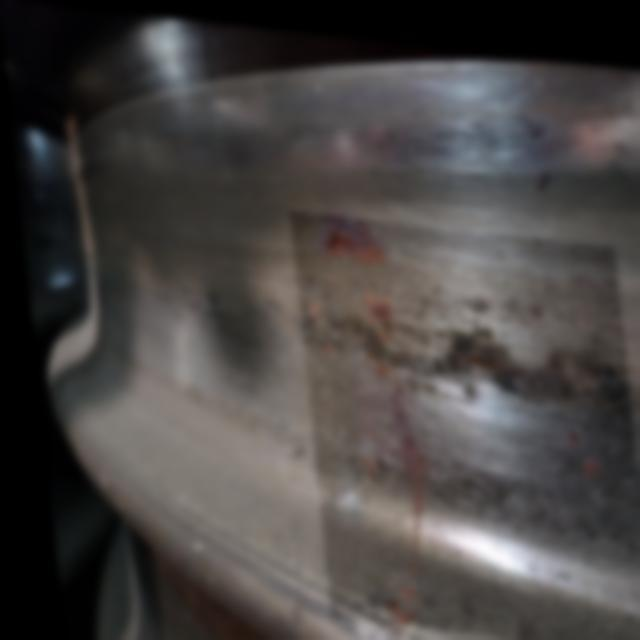Contact_Fatigue_Cracks: (282, 247, 640, 425)
